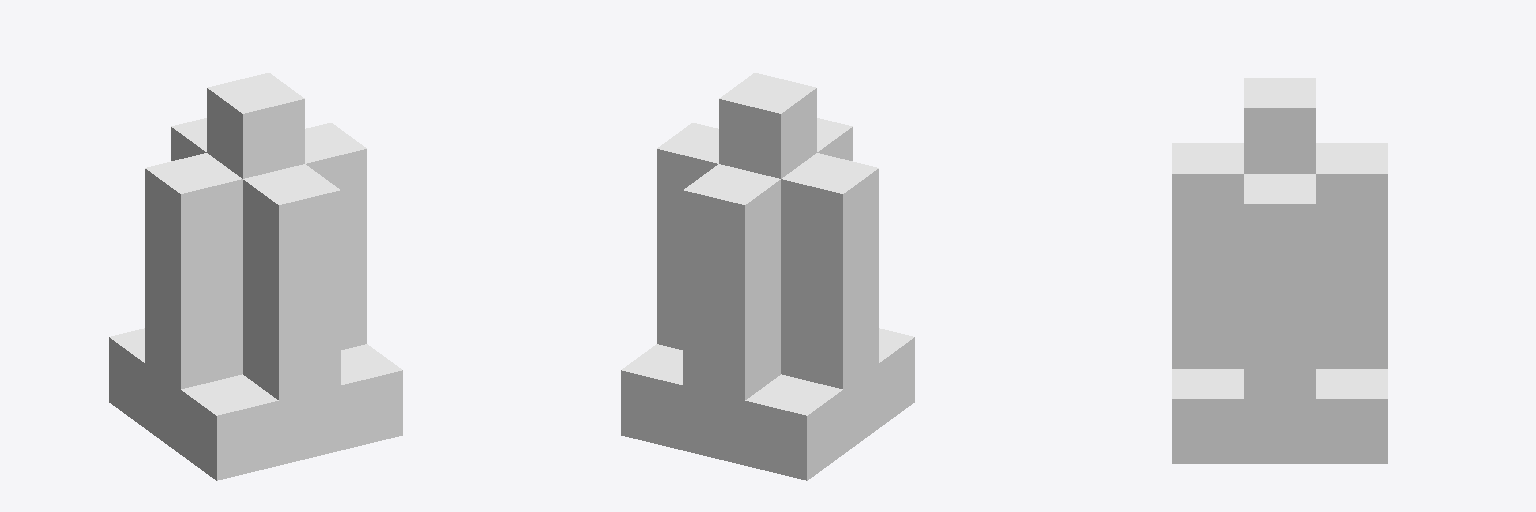
The model's file is glue_light_a.obj.
3 views of the same model, side by side, from view 1: azimuth 30°, elevation 25°; view 2: azimuth 150°, elevation 25°; view 3: azimuth 270°, elevation 25° (orthographic).
Visible parts, largest first — view 1: object 1; view 2: object 1; view 3: object 1.
Boxes of the visible parts, x1,y1,x2,y2 form: object 1: [109, 73, 402, 480]; object 1: [621, 73, 914, 480]; object 1: [1172, 78, 1387, 463].
Size of the model in its own units: 0.3 by 0.5 by 0.3.